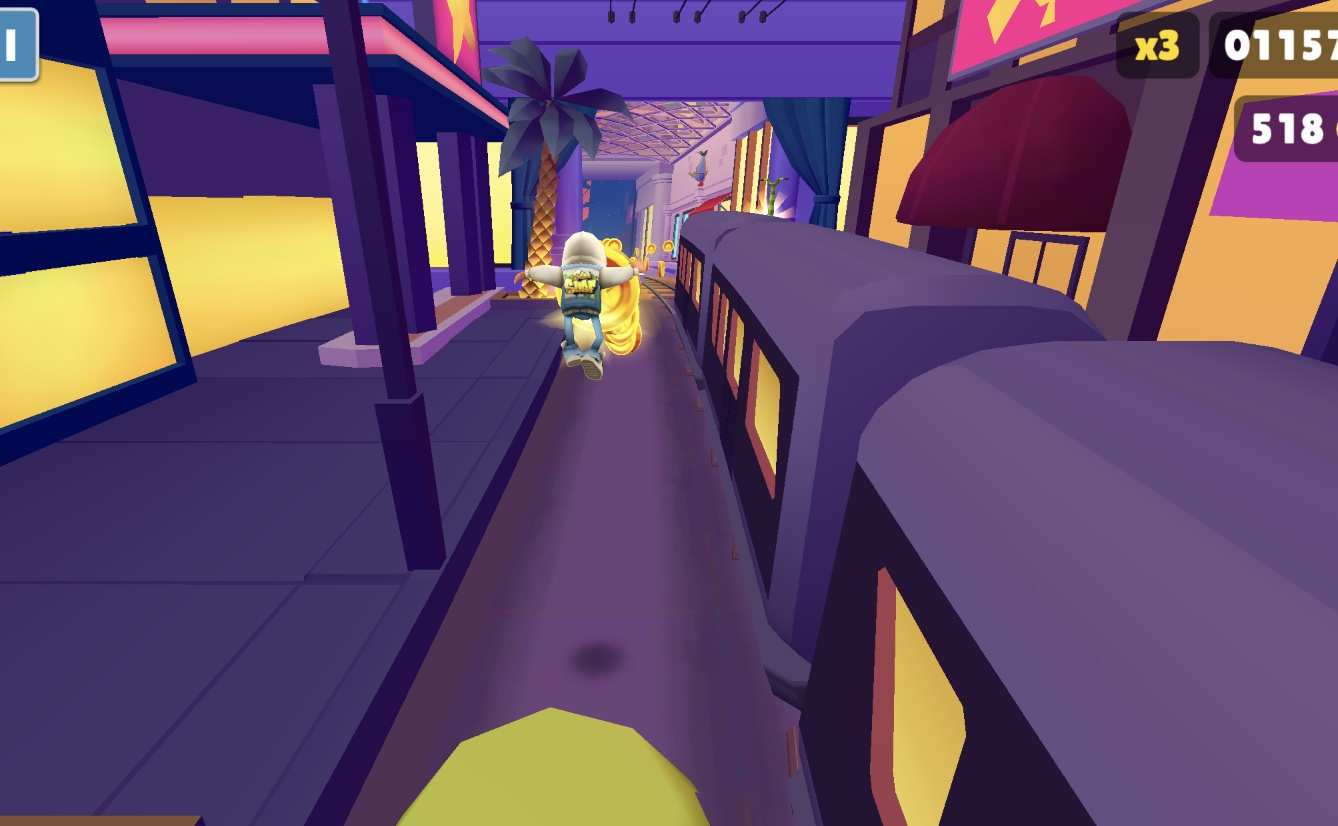bush: (397, 706, 716, 826)
train: (676, 212, 1338, 826)
